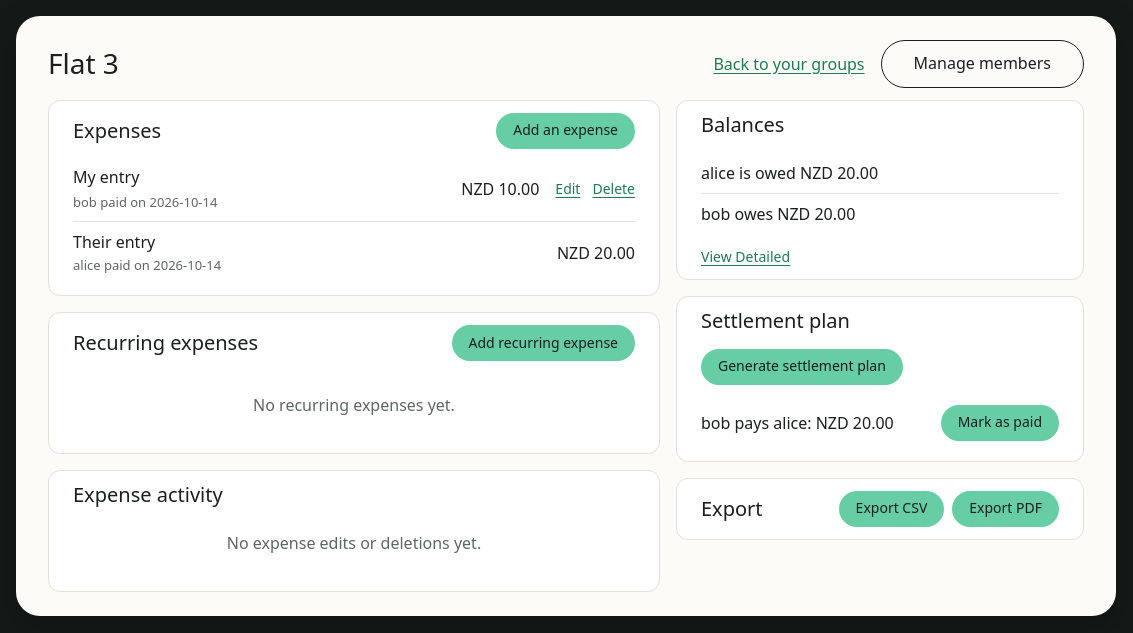
Test: AC5: deleting an expense refreshes the visible settlement plan without navigating away
expect the text "bob pays alice: NZD 20.00" is shown: met, box [701, 411, 894, 435]
Click the button with aria-label "Delete My entry" at (614,189), box [592, 165, 635, 213]
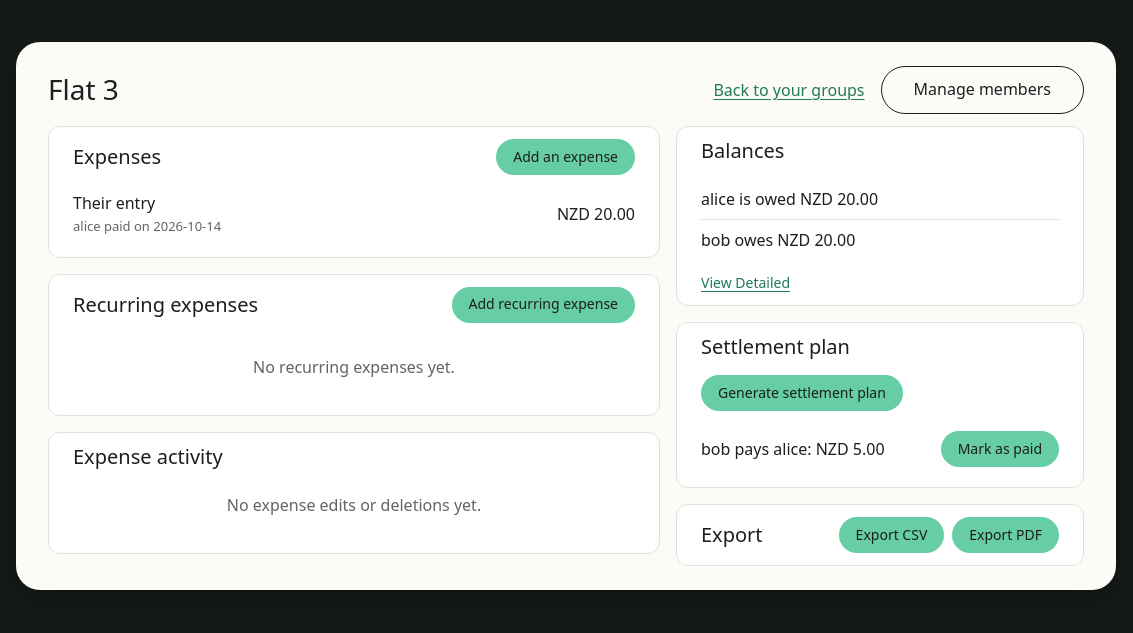
expect the text "bob pays alice: NZD 5.00" is shown: met, box [701, 437, 885, 461]
expect the text "bob pays alice: NZD 20.00" is gone: met
